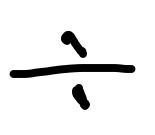div: (10, 32, 134, 109)
